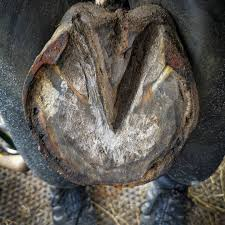horsesole: (21, 19, 200, 189)
